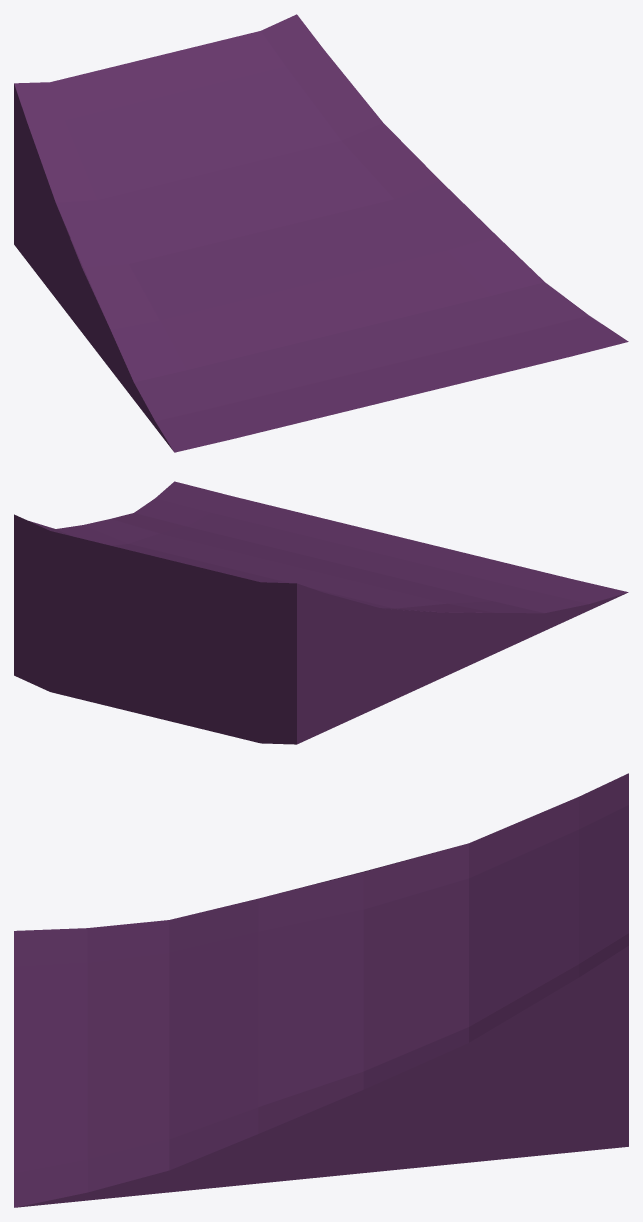
Rendered from takeoff.glb.
3 renders of one model, top to bottom at view 1: azimuth 30°, elevation 25°; view 2: azimuth 150°, elevation 25°; view 3: azimuth 270°, elevation 25°, orthographic. The views are drawn at different scales.
Parts seen in each view (by area): view 1: takeoff1; view 2: takeoff1; view 3: takeoff1.
Boxes of the visible parts, x1,y1,x2,y2 form: takeoff1: (14,14,628,452); takeoff1: (14,481,628,744); takeoff1: (14,773,628,1207).
Bounding box in the file's own units: 9.97 × 3.54 × 9.35.
